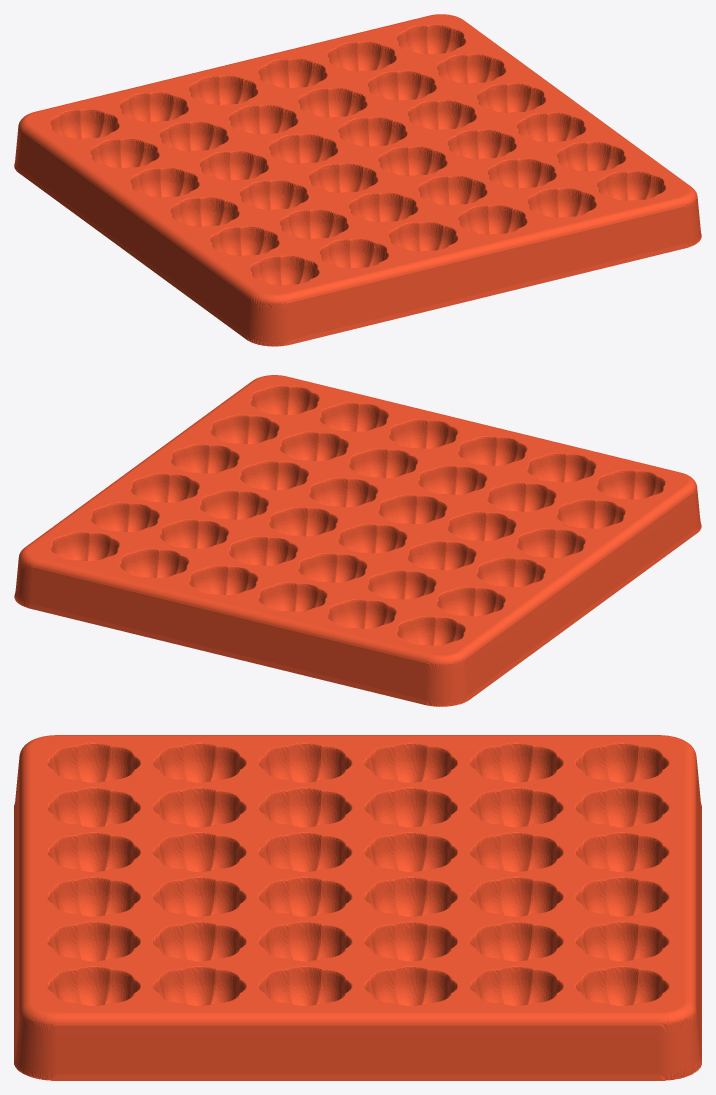
Rendered from mold.glb.
3 renders of one model, top to bottom at view 1: azimuth 30°, elevation 25°; view 2: azimuth 150°, elevation 25°; view 3: azimuth 270°, elevation 25°, orthographic. The views are drawn at different scales.
Parts seen in each view (by area): view 1: geometry_0; view 2: geometry_0; view 3: geometry_0.
Part boxes in pixels (box(x1,y1,x2,y2)): geometry_0: box(14, 14, 701, 346); geometry_0: box(14, 375, 701, 706); geometry_0: box(14, 735, 701, 1080).
Bounding box in the file's own units: 0.1447 × 0.0142 × 0.1447.
